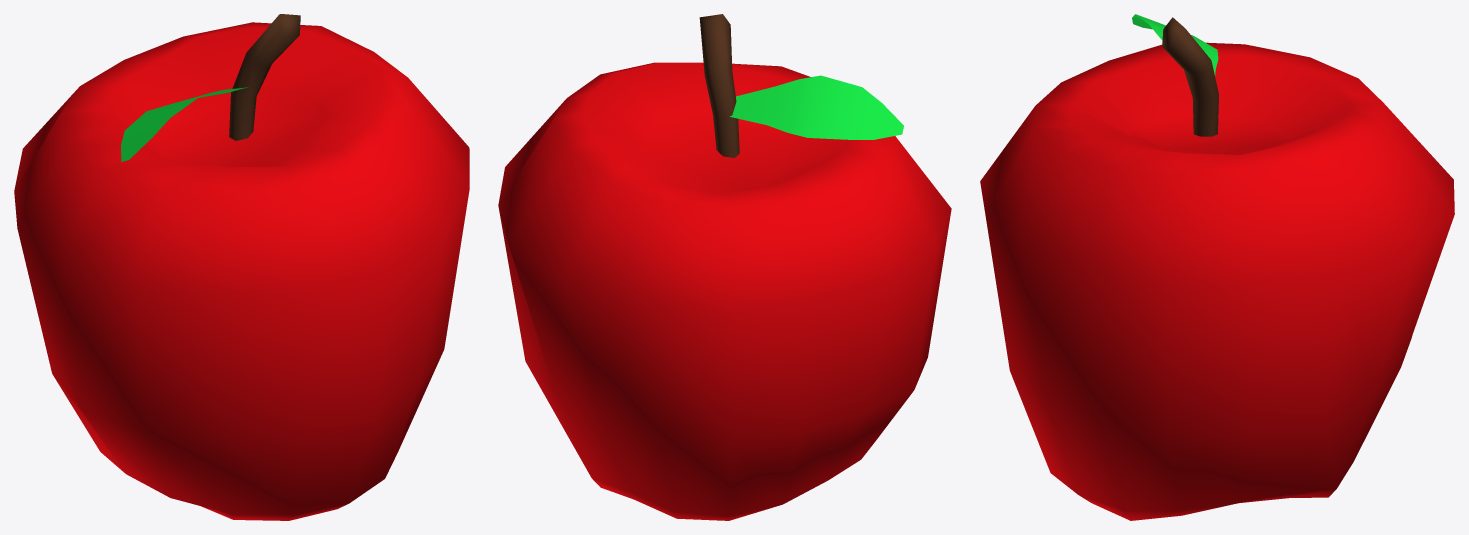
Rendered from Apple.glb.
3 renders of one model, left to right at view 1: azimuth 30°, elevation 25°; view 2: azimuth 150°, elevation 25°; view 3: azimuth 270°, elevation 25°, orthographic. The views are drawn at different scales.
Visible parts, largest first — view 1: Apple.006; view 2: Apple.006; view 3: Apple.006.
Boxes of the visible parts, left/top/right/bottom form: Apple.006: left=14, top=14, right=469, bottom=520; Apple.006: left=498, top=14, right=951, bottom=520; Apple.006: left=980, top=14, right=1454, bottom=520.
Size of the model in its own units: 1.72 by 1.85 by 1.72.
